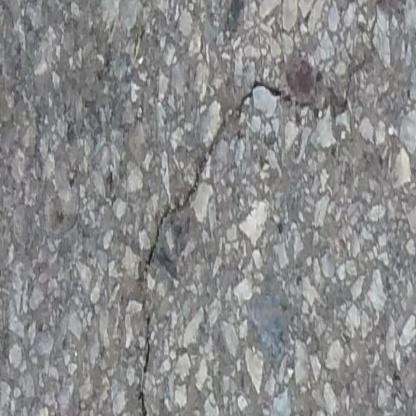Cracks: (136, 86, 257, 344), (259, 48, 364, 108), (127, 354, 155, 416)
